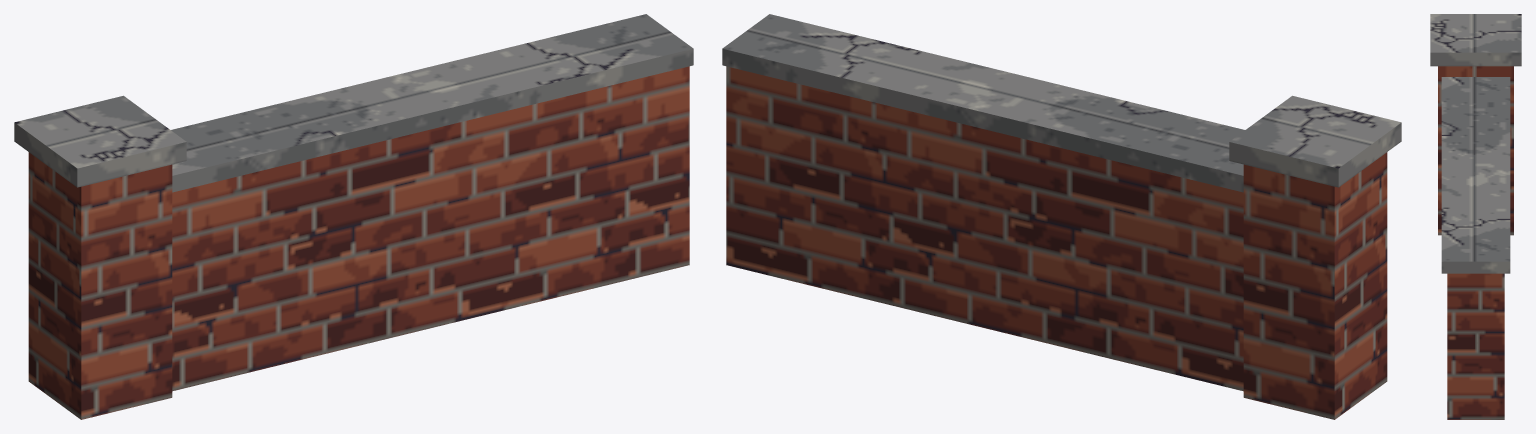
The model's file is FN_BrickWall_2.5m.obj.
3 renders of one model, left to right at view 1: azimuth 30°, elevation 25°; view 2: azimuth 150°, elevation 25°; view 3: azimuth 270°, elevation 25°, orthographic. The views are drawn at different scales.
Visible parts, largest first — view 1: FN_BrickWall_2.5m_Mesh_M_Arch_BrickRed, FN_BrickWall_2.5m_Mesh_M_Arch_ConcreteFoundation; view 2: FN_BrickWall_2.5m_Mesh_M_Arch_BrickRed, FN_BrickWall_2.5m_Mesh_M_Arch_ConcreteFoundation; view 3: FN_BrickWall_2.5m_Mesh_M_Arch_ConcreteFoundation, FN_BrickWall_2.5m_Mesh_M_Arch_BrickRed.
Boxes of the visible parts, x1,y1,x2,y2 form: FN_BrickWall_2.5m_Mesh_M_Arch_BrickRed: (28,66,689,419); FN_BrickWall_2.5m_Mesh_M_Arch_ConcreteFoundation: (14,14,693,192); FN_BrickWall_2.5m_Mesh_M_Arch_BrickRed: (726,66,1387,419); FN_BrickWall_2.5m_Mesh_M_Arch_ConcreteFoundation: (722,14,1401,192); FN_BrickWall_2.5m_Mesh_M_Arch_ConcreteFoundation: (1430,14,1521,273); FN_BrickWall_2.5m_Mesh_M_Arch_BrickRed: (1438,66,1513,419).
Size of the model in its own units: 2.74 by 1.08 by 0.48.
Materials: 2 (2 with a texture image).
